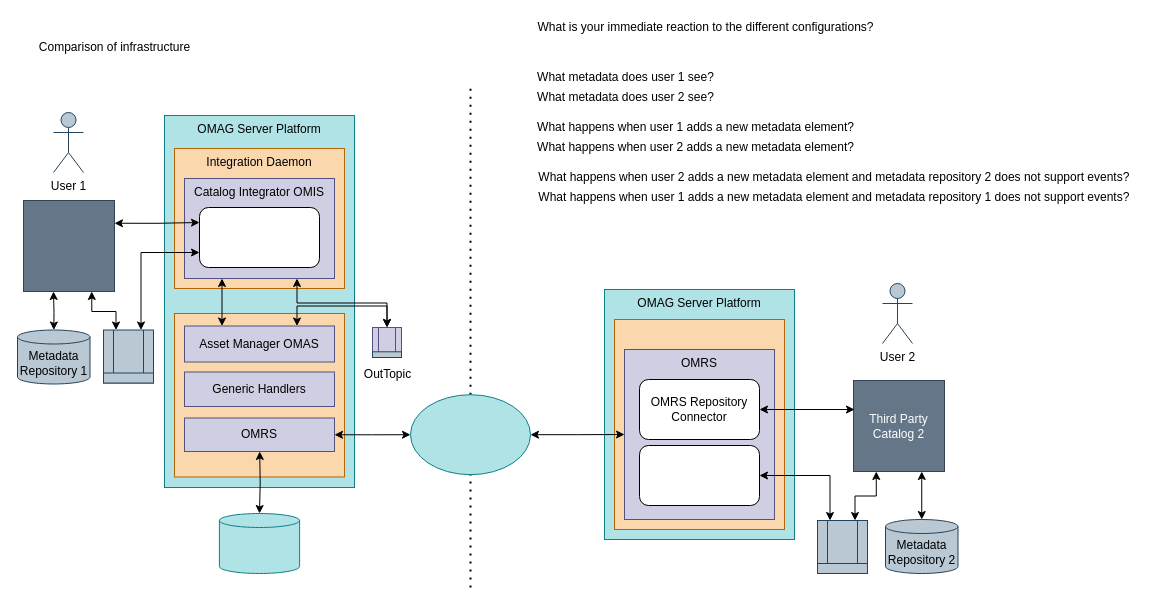
This 1158x606 diagram has some shape labels left out. The shapes that lost their labels are listed below. From the top down, each one's box as (x1, y1, x2, y2) in pixels, then its label:
(22, 200, 114, 292): Third Party Catalog 1
(198, 206, 320, 268): Catalog Integrator OMIS Integration Connector
(174, 312, 344, 477): Metadata Access Store
(410, 394, 530, 475): Cohort
(614, 318, 784, 530): Repository Proxy
(638, 444, 760, 506): OMRS Event Mapper Connector
(218, 512, 300, 574): Native Metadata Repository 3
